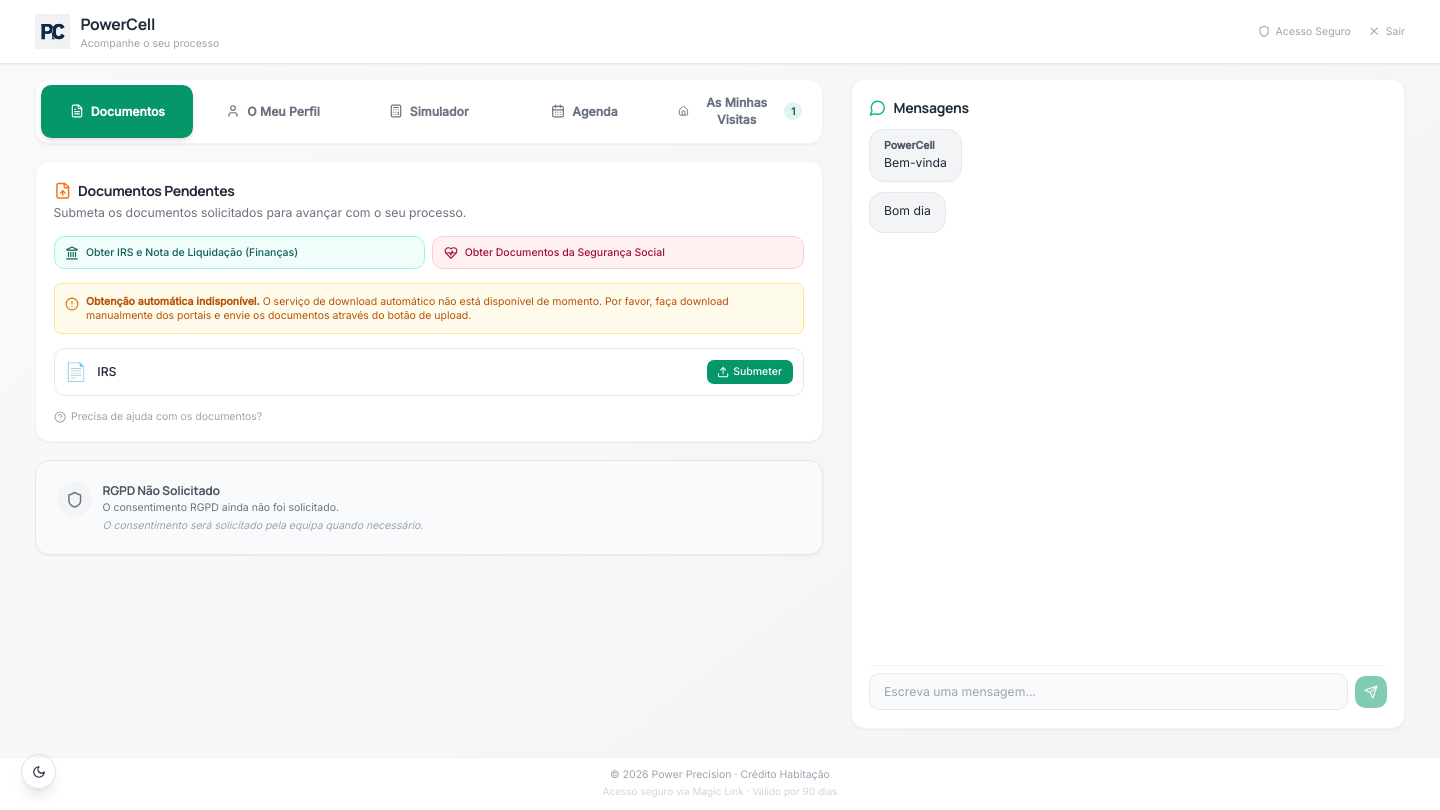
Test case: Portal — o separador das Visitas › clicar no botão abre o separador e mostra as visitas
(page scrolled)
Step 1. Click the button "As Minhas Visitas 1" → (740, 111), box top-left (664, 85), bottom-right (816, 138)
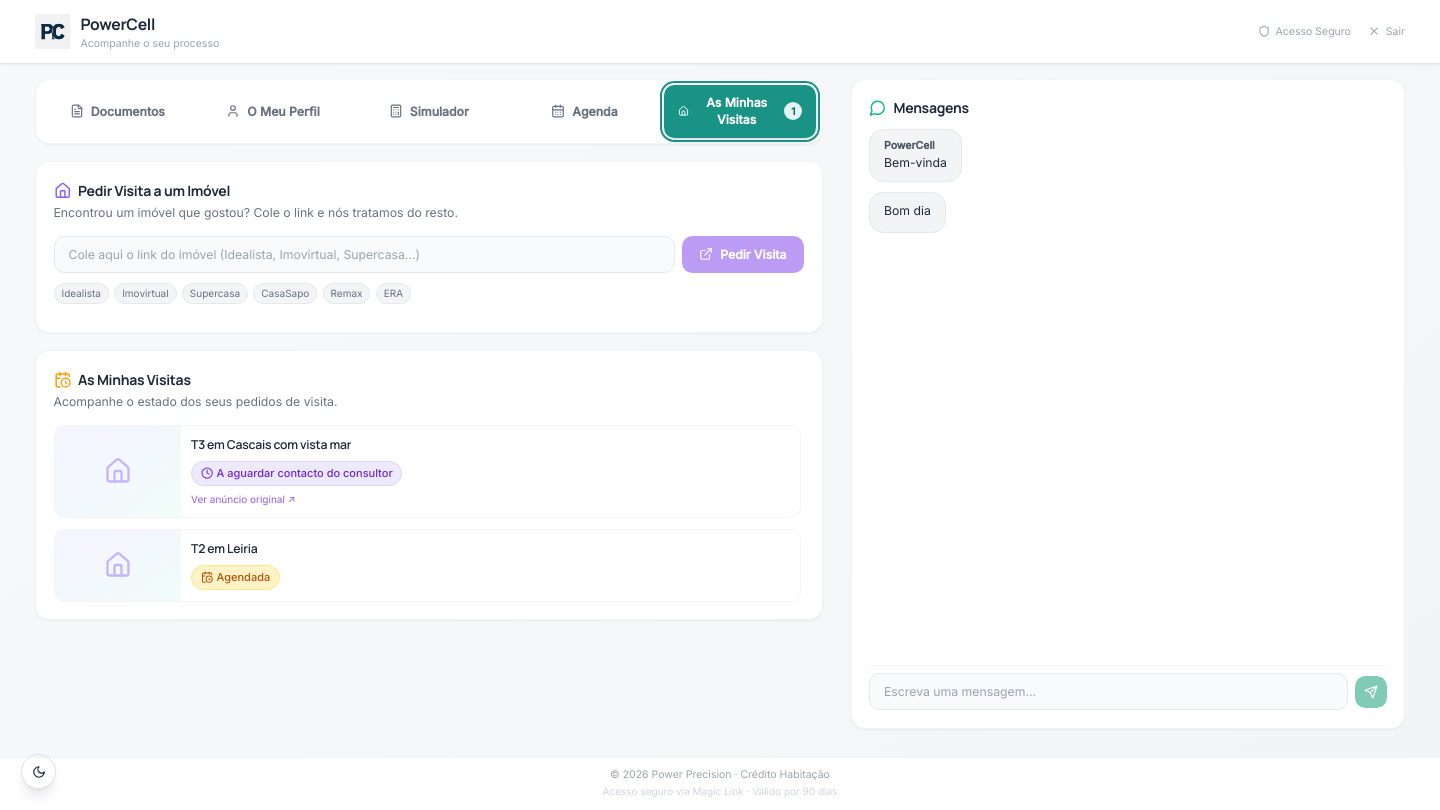
Result: the heading "T3 em Cascais com vista mar" is shown at top-left (191, 436), bottom-right (351, 454)
Result: the heading "T2 em Leiria" is shown at top-left (191, 540), bottom-right (257, 558)
